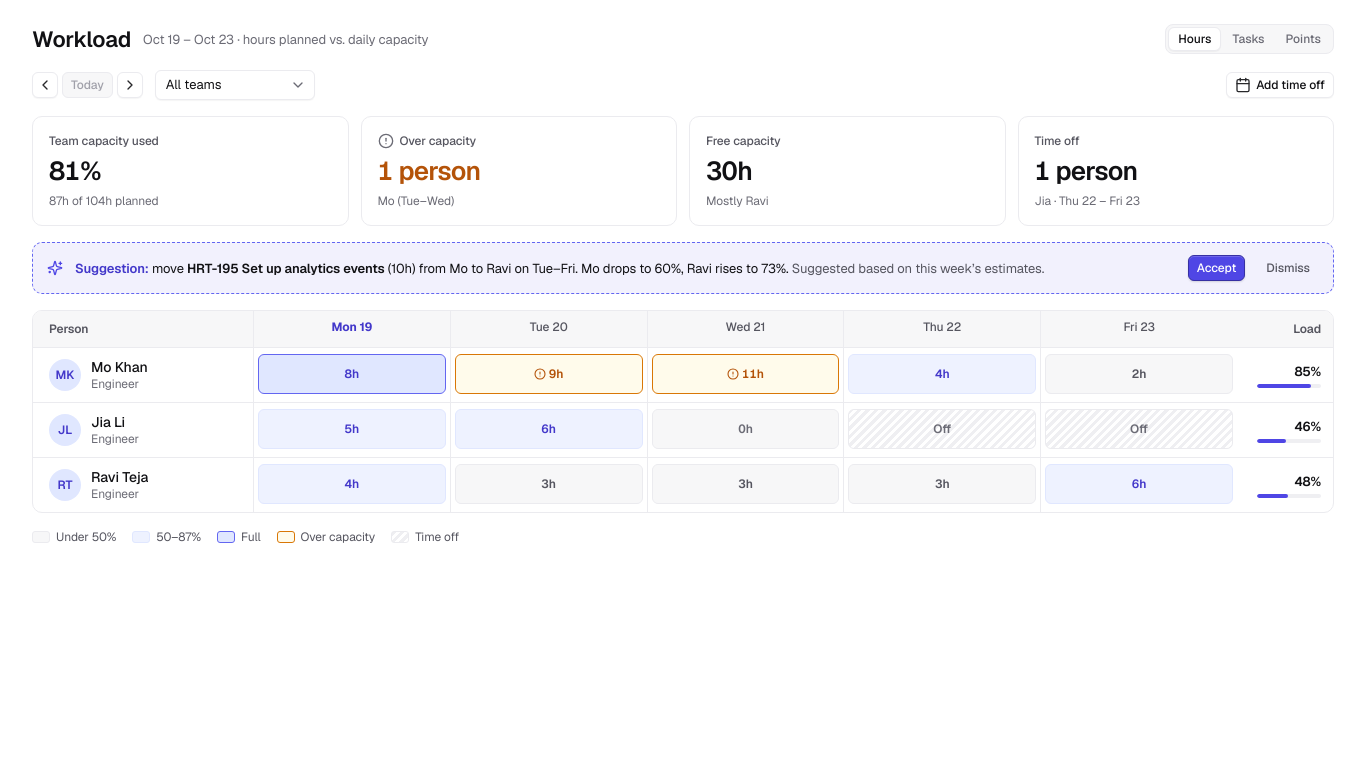
Test: WorkloadPage › shows the AI suggestion with its source, and Accept reassigns with Undo
Expected: the element "Suggestion" shows "Suggestion:", [75,260,149,276]
Expected: the element "Suggestion" shows "based on this week’s estimates", [858,260,1042,276]
Click the button "Accept".
click(1216, 268)  # box [1188,255,1245,281]
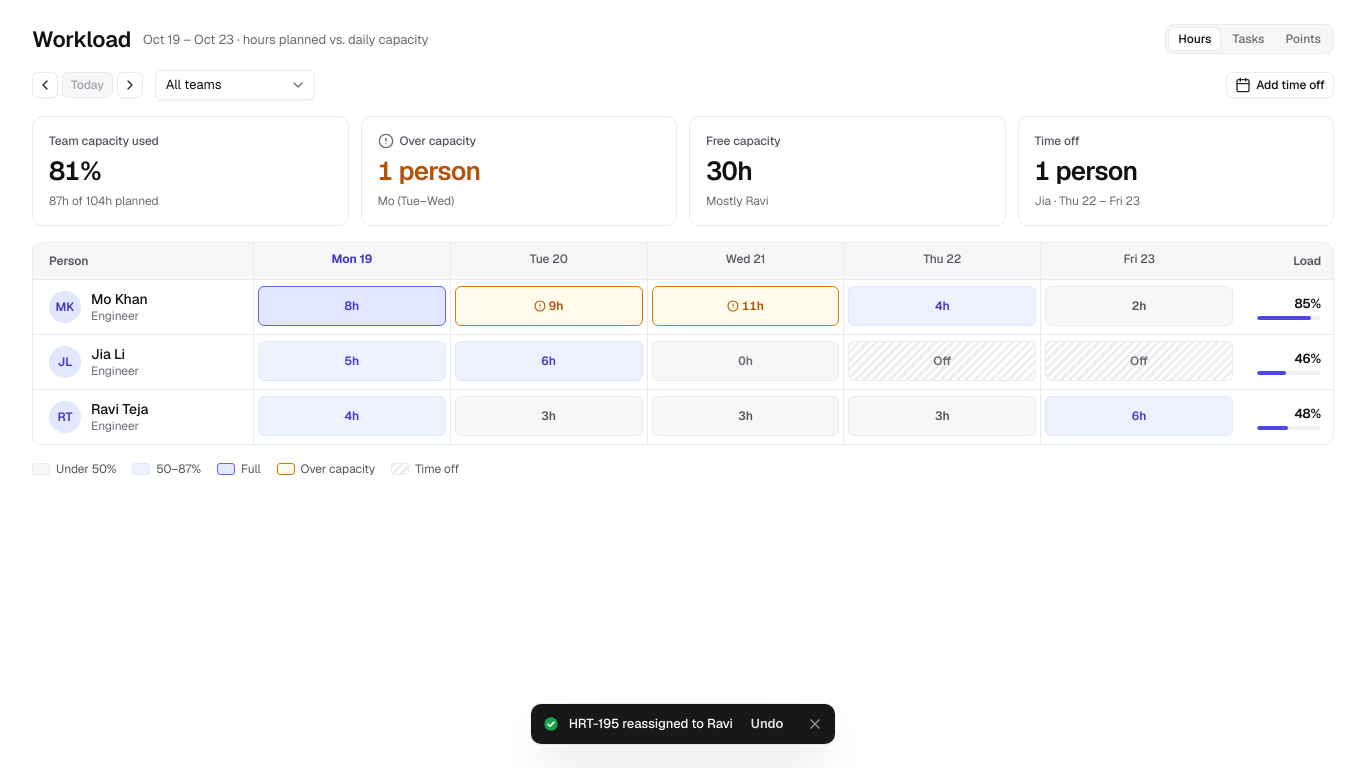
Expected: the text "HRT-195 reassigned to Ravi" is shown, [569,715,733,733]
Expected: the button "Undo" is shown, [743,712,791,736]
Expected: the text "Suggestion" is gone
